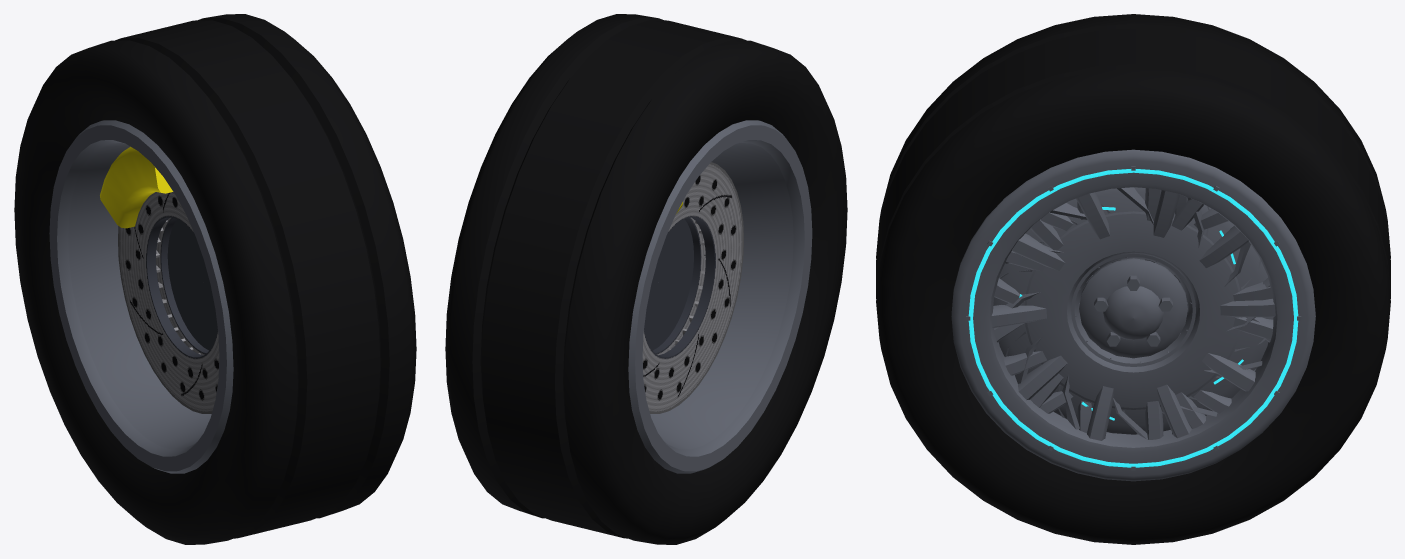
The model's file is wheels.glb.
The picture shows the model from 3 angles, left to right: view 1: azimuth 30°, elevation 25°; view 2: azimuth 150°, elevation 25°; view 3: azimuth 270°, elevation 25°; orthographic projection.
Parts seen in each view (by area): view 1: tire, brake_disc, rim_7, rim_0, caliper; view 2: tire, brake_disc, rim_7, rim_0; view 3: tire, rim_7, rim_5, rim_3, rim_0, rim_1, rim_6, rim_4.
Boxes of the visible parts, x1,y1,x2,y2 form: tire: (14,14,416,544); brake_disc: (118,192,219,413); rim_7: (68,143,211,449); rim_0: (49,120,233,473); caliper: (100,146,173,228); tire: (445,14,847,544); brake_disc: (642,162,743,413); rim_7: (650,143,793,449); rim_0: (628,120,812,473); tire: (876,14,1390,544); rim_7: (951,151,1315,481); rim_5: (993,187,1273,434); rim_3: (1005,187,1272,439); rim_0: (951,149,1314,440); rim_1: (1004,188,1273,439); rim_6: (999,204,1265,431); rim_4: (994,194,1270,434).
Size of the model in its own units: 0.2529 by 0.6802 by 0.6799.
5 materials, 1 textured.
